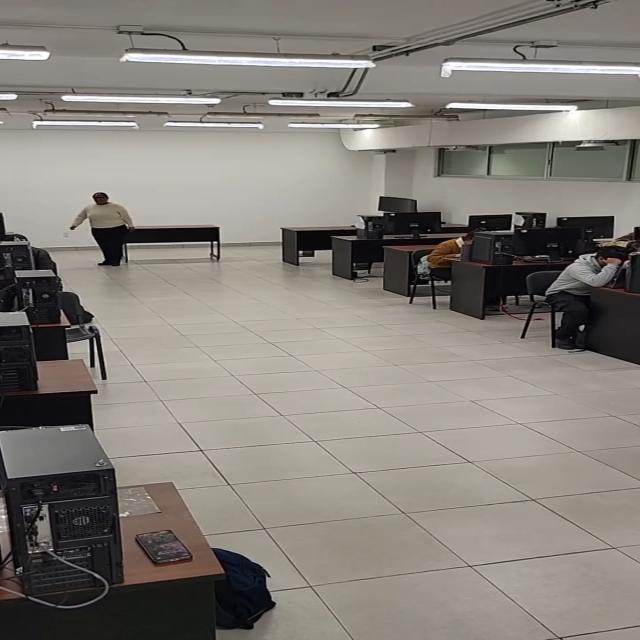Persona: (70, 192, 136, 267)
